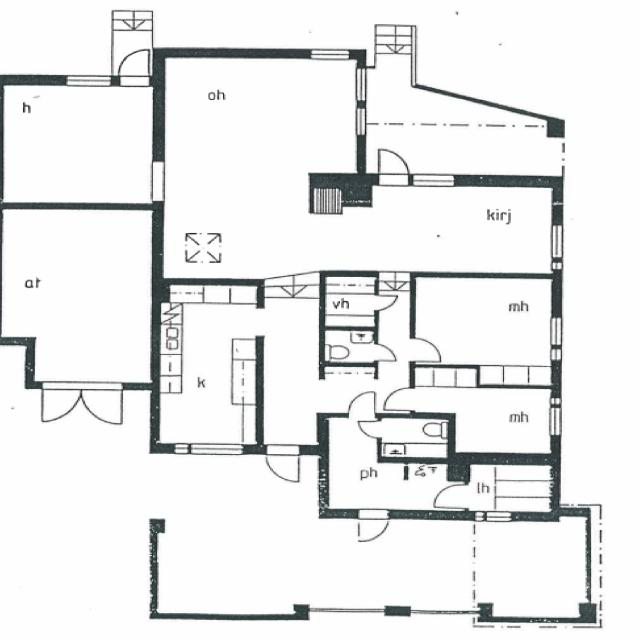door: (82, 382, 122, 423), (42, 382, 82, 423), (265, 445, 299, 483), (357, 509, 388, 545), (378, 149, 408, 186), (117, 51, 146, 85), (438, 484, 470, 507), (347, 391, 374, 418), (409, 338, 442, 360), (383, 388, 415, 410), (374, 343, 399, 360), (358, 422, 382, 438), (374, 296, 397, 311)
